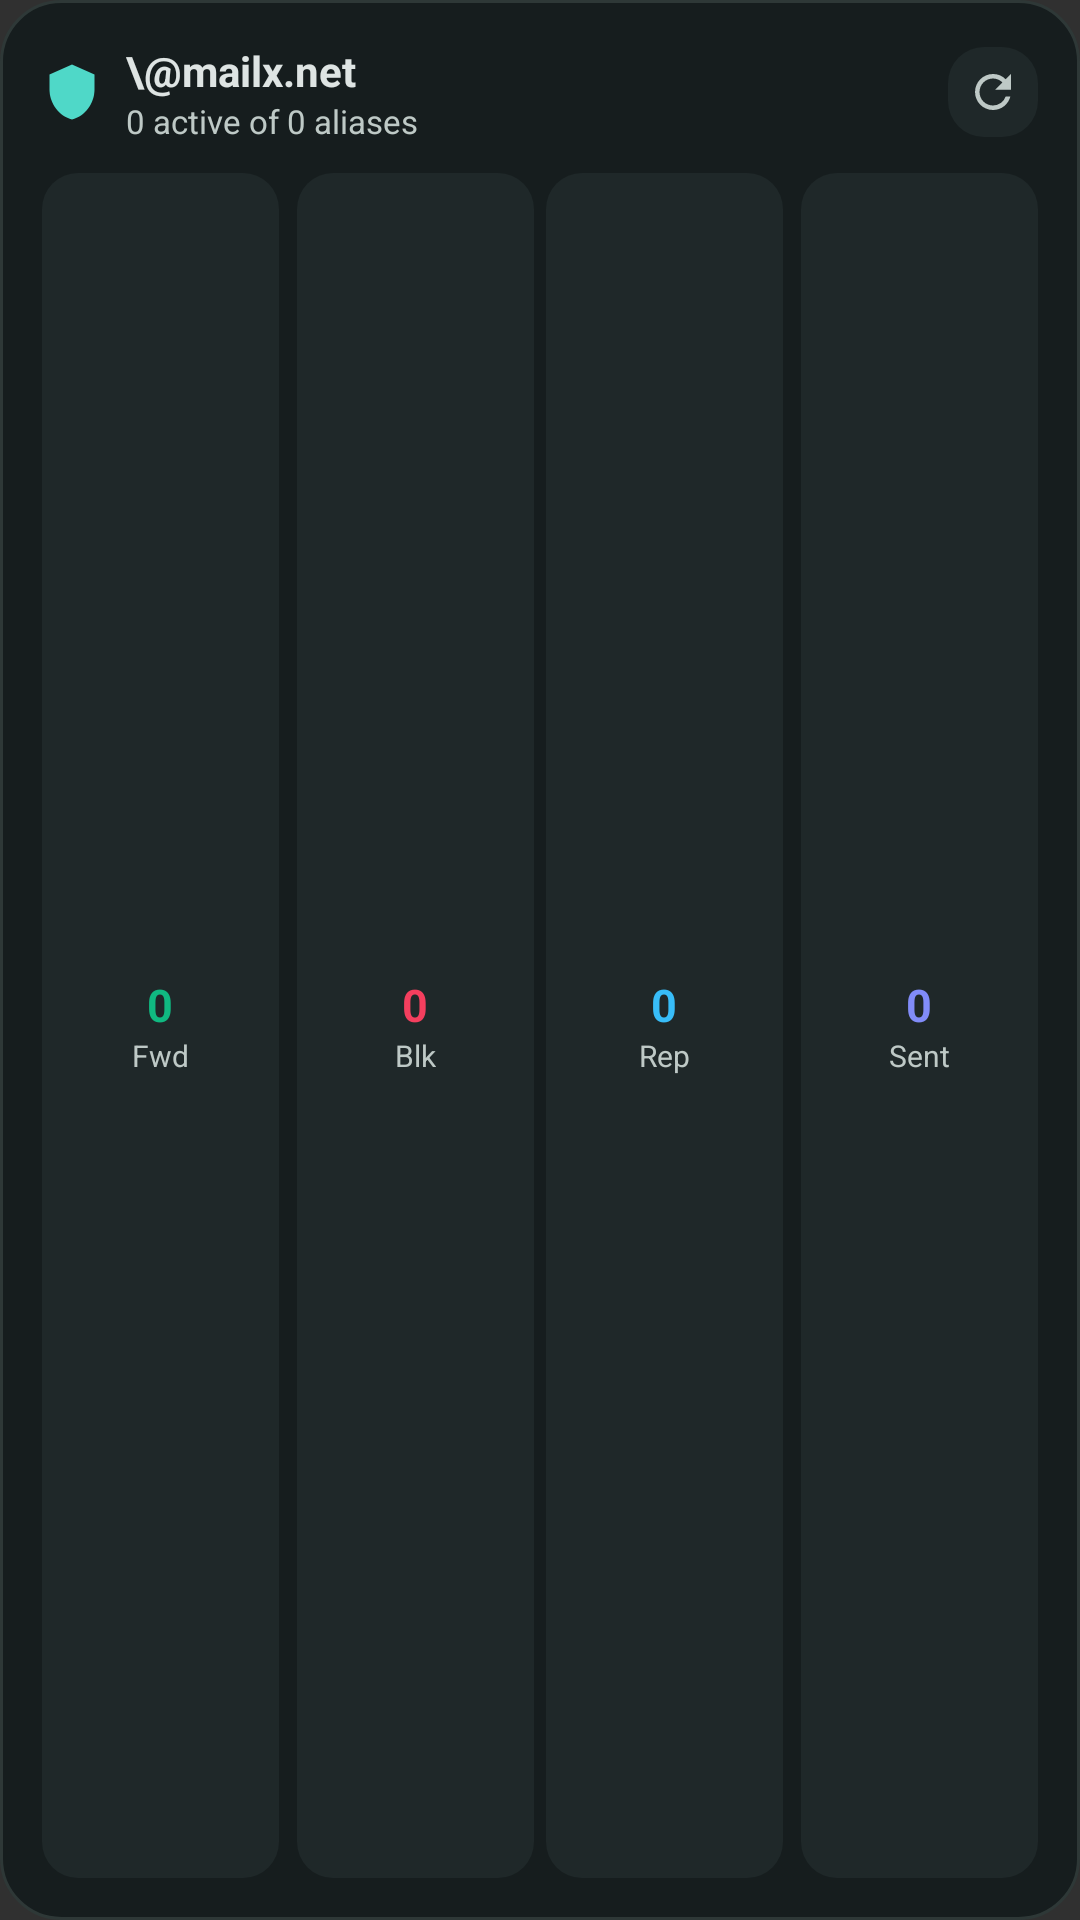

Named icons in this screenshot (1080x1920) and their centers, point (x, y):
Refresh: point (993, 92)
